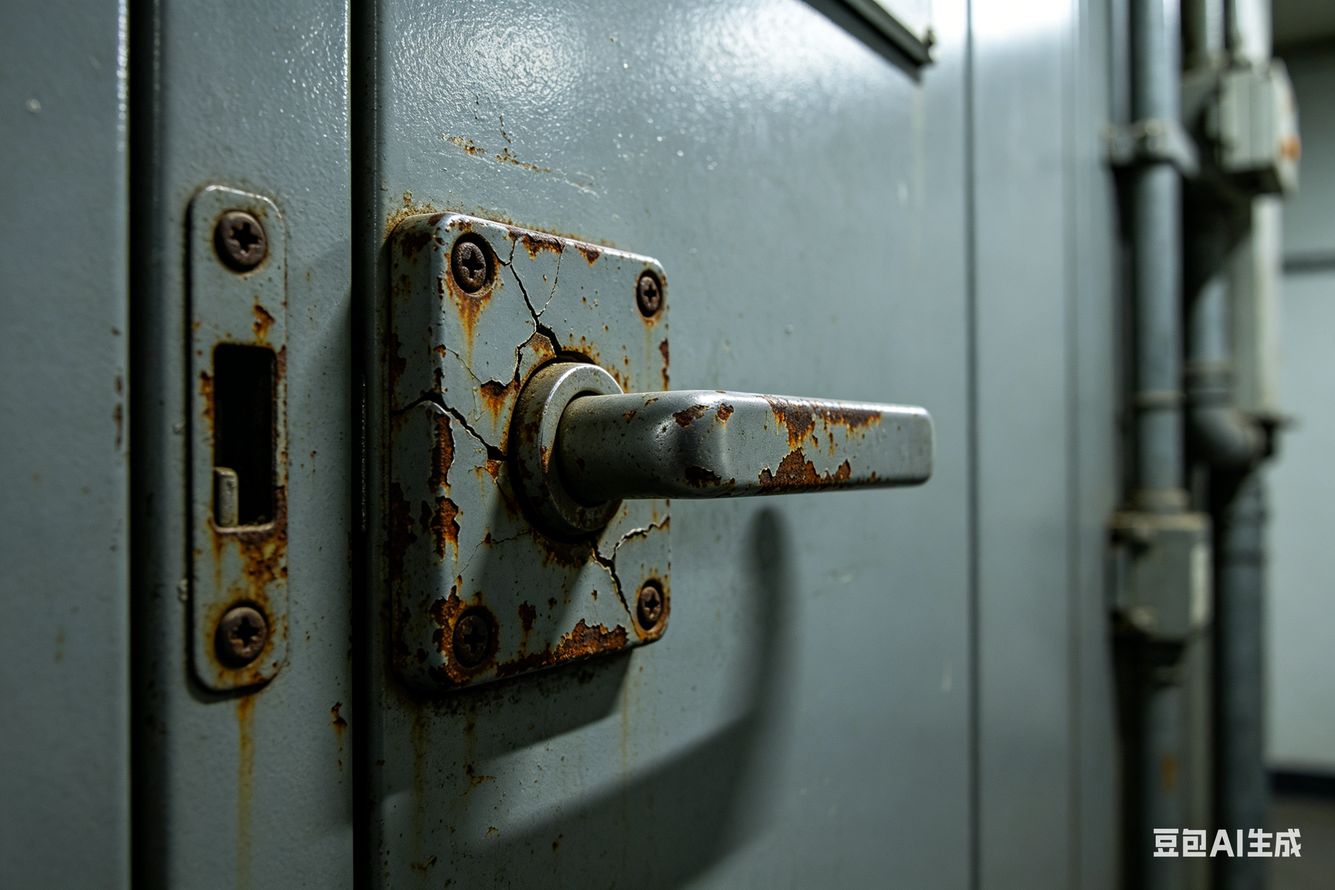BadLock: (185, 321, 338, 683)
